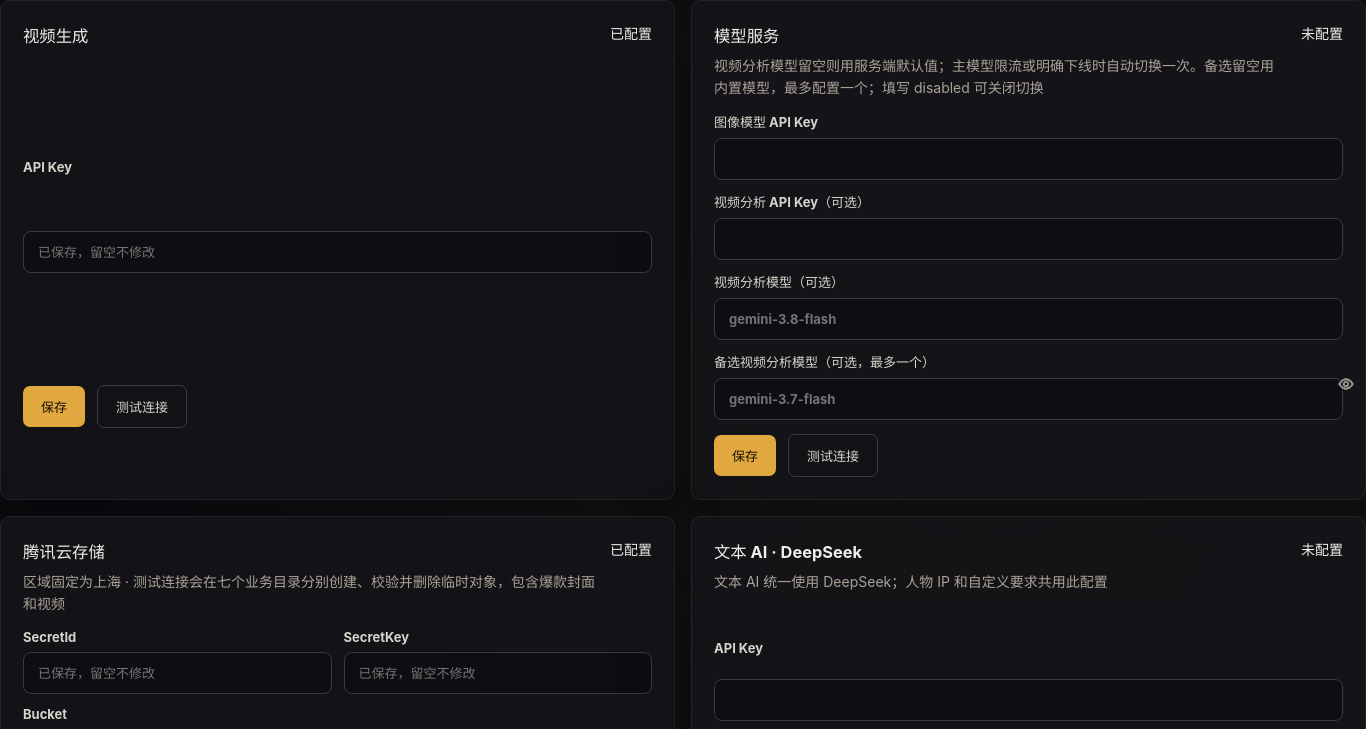
Test: SettingsPanel › runs the connection test and surfaces the ok result
Check: the heading "视频生成" is shown, box [23,26,88,46]
Click the 1st button "测试连接" at (142, 407), box [97,385,187,428]
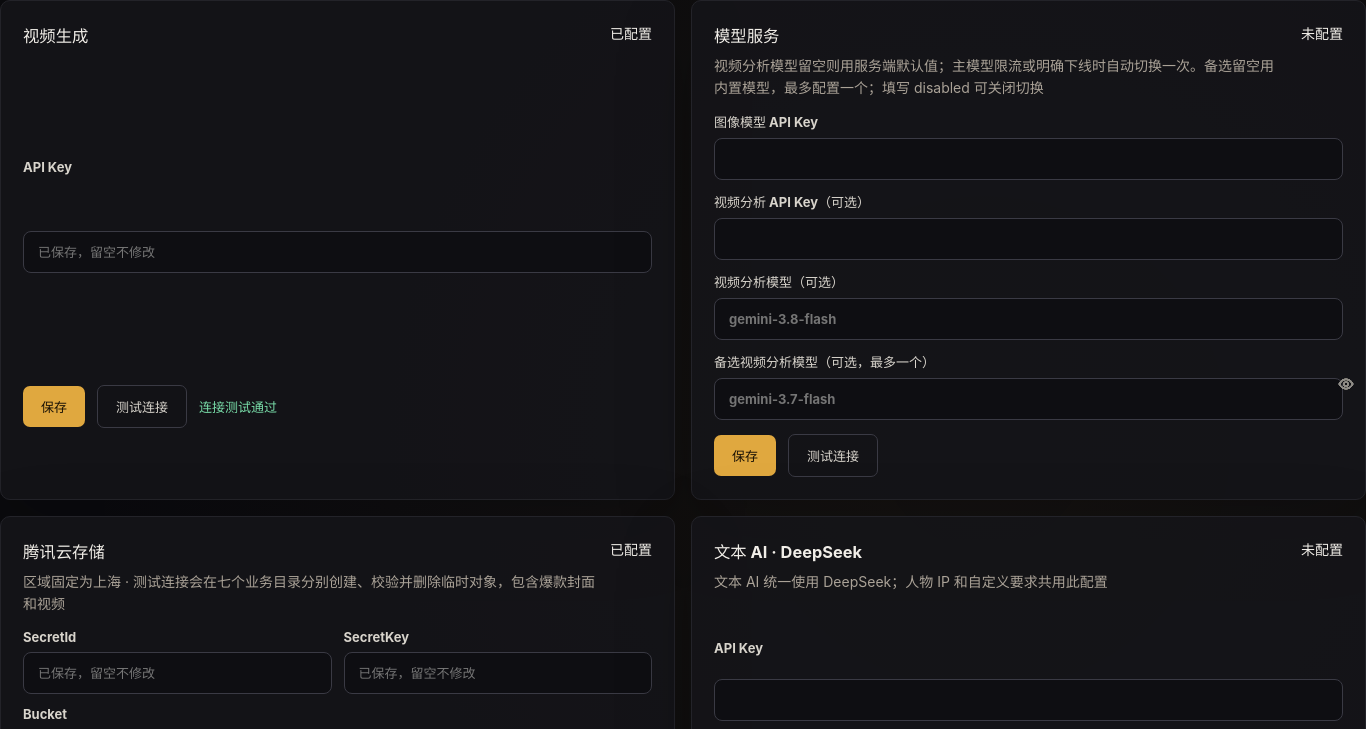
Check: the text "连接测试通过" is shown, box [199,397,277,416]
